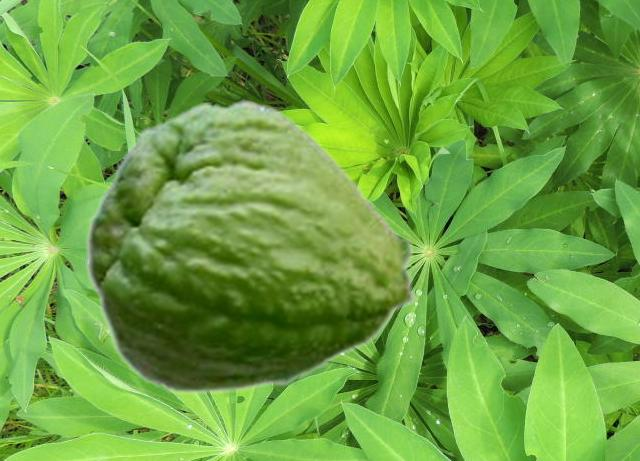sayote: (85, 98, 420, 395)
